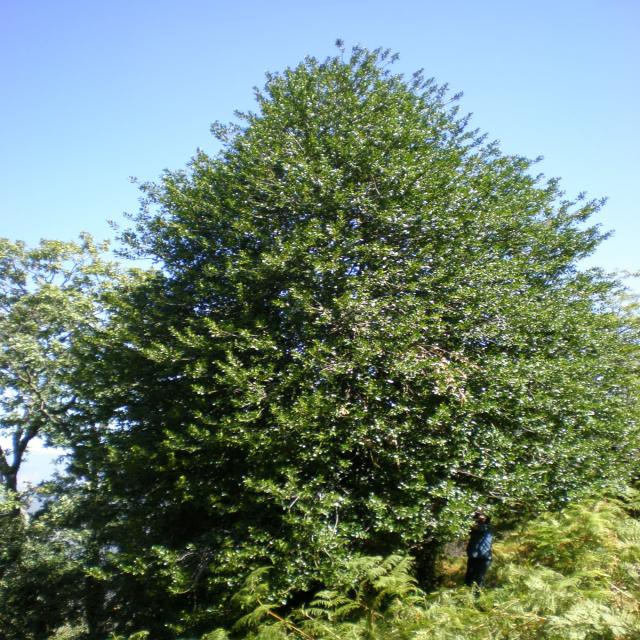acebo: (71, 40, 640, 622)
